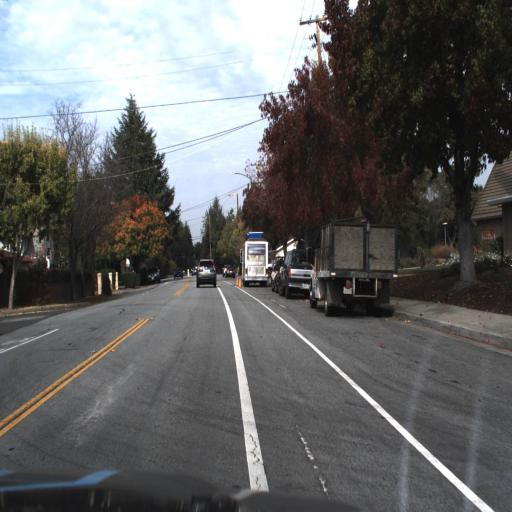car: (310, 212, 400, 322), (236, 227, 271, 291), (239, 235, 271, 283), (276, 247, 299, 298), (192, 257, 218, 293), (145, 263, 163, 288), (144, 265, 161, 287), (170, 264, 186, 282)
truck: (306, 212, 399, 318)
